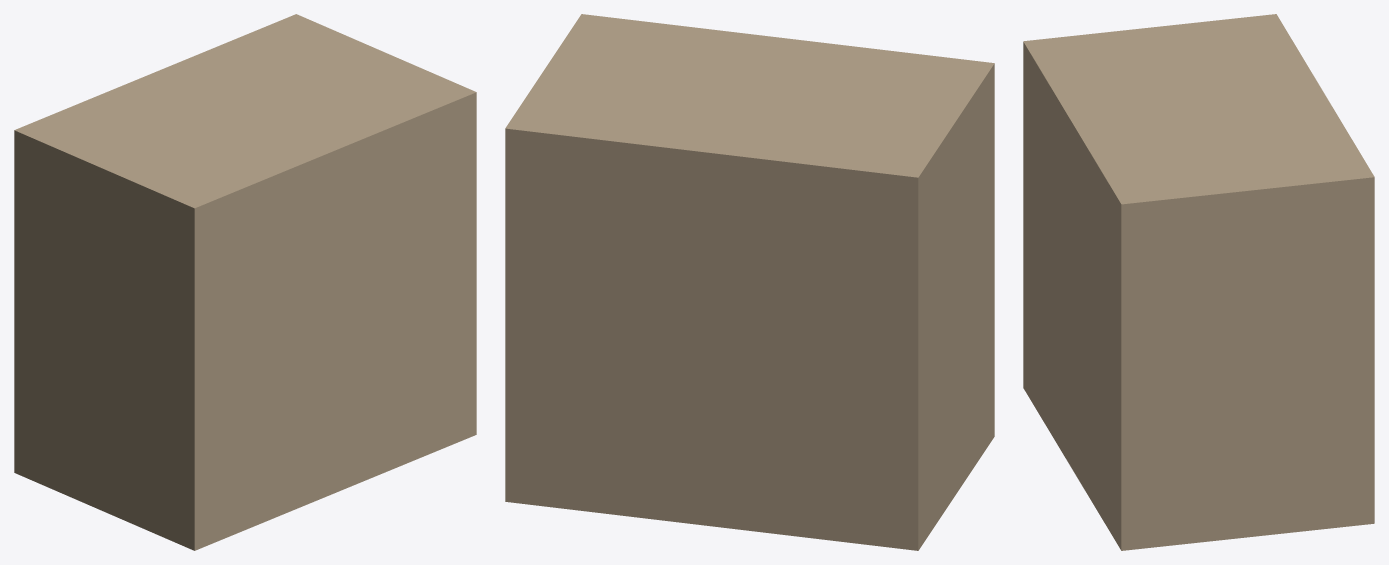
Rendered from bld_106456086.dae.
3 renders of one model, left to right at view 1: azimuth 30°, elevation 25°; view 2: azimuth 150°, elevation 25°; view 3: azimuth 270°, elevation 25°, orthographic. The views are drawn at different scales.
Parts seen in each view (by area): view 1: bld_106456086; view 2: bld_106456086; view 3: bld_106456086.
Part boxes in pixels (bbox=[...]): bld_106456086: bbox=[14, 14, 476, 550]; bld_106456086: bbox=[505, 14, 994, 550]; bld_106456086: bbox=[1023, 14, 1374, 550].
Bounding box in the file's own units: 9.43 × 7.36 × 8.
